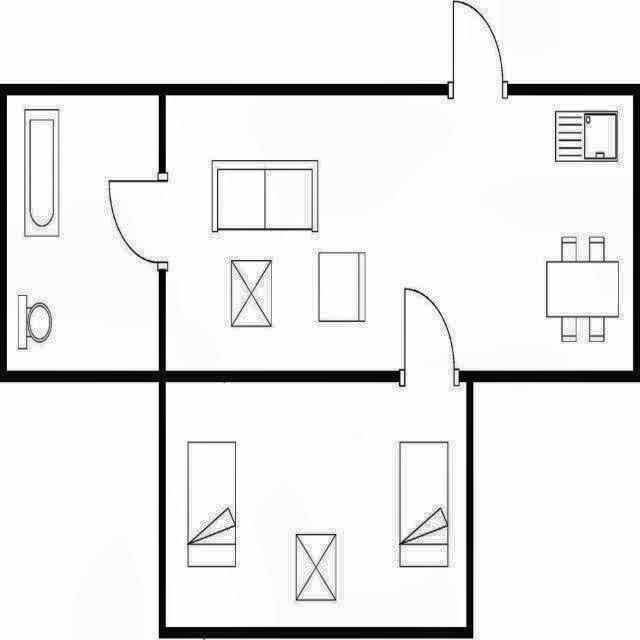room: (166, 97, 632, 369), (165, 382, 467, 625), (8, 97, 159, 371)
